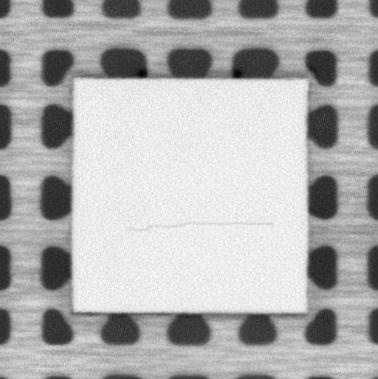DIE_CRACK: (128, 217, 275, 233)
